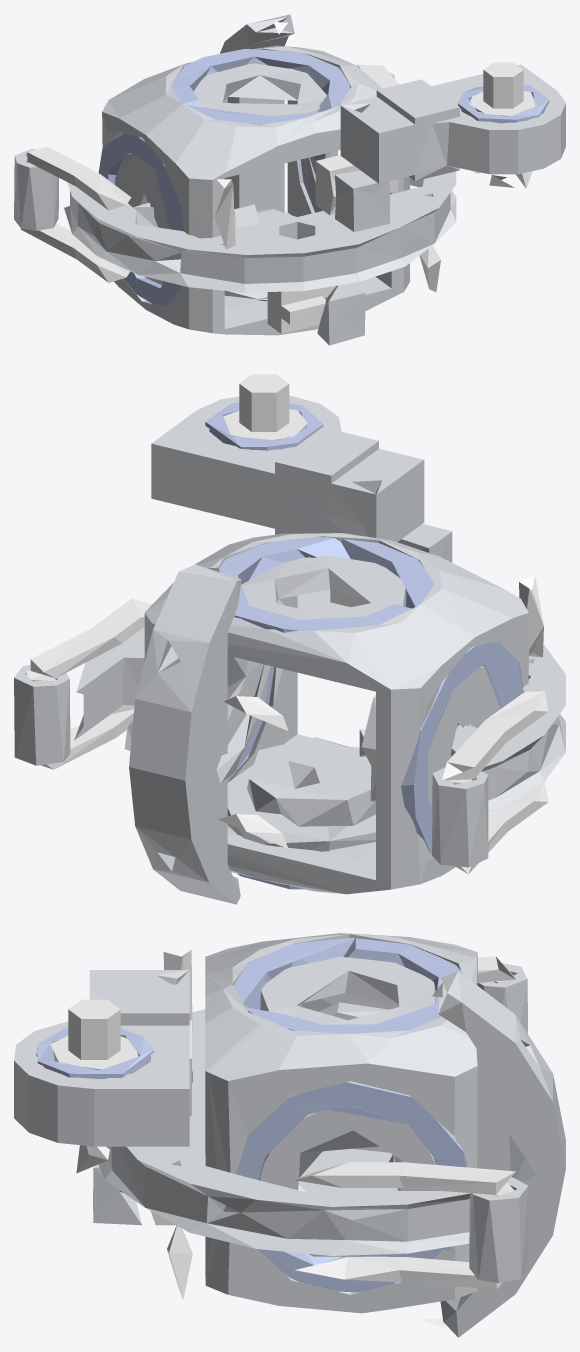
The model's file is LLEG_LINK4_mesh.dae.
The picture shows the model from 3 angles, top to bottom: view 1: azimuth 30°, elevation 25°; view 2: azimuth 150°, elevation 25°; view 3: azimuth 270°, elevation 25°; orthographic projection. The views are drawn at different scales.
Parts seen in each view (by area): view 1: LLEG_LINK4 (×17); view 2: LLEG_LINK4 (×19); view 3: LLEG_LINK4 (×19).
Part boxes in pixels (box(x1,y1,x2,y2)): LLEG_LINK4 (×17): box(14, 14, 565, 345); LLEG_LINK4 (×19): box(14, 374, 565, 904); LLEG_LINK4 (×19): box(14, 933, 565, 1337).
Bounding box in the file's own units: 0.1281 × 0.0911 × 0.1217.
